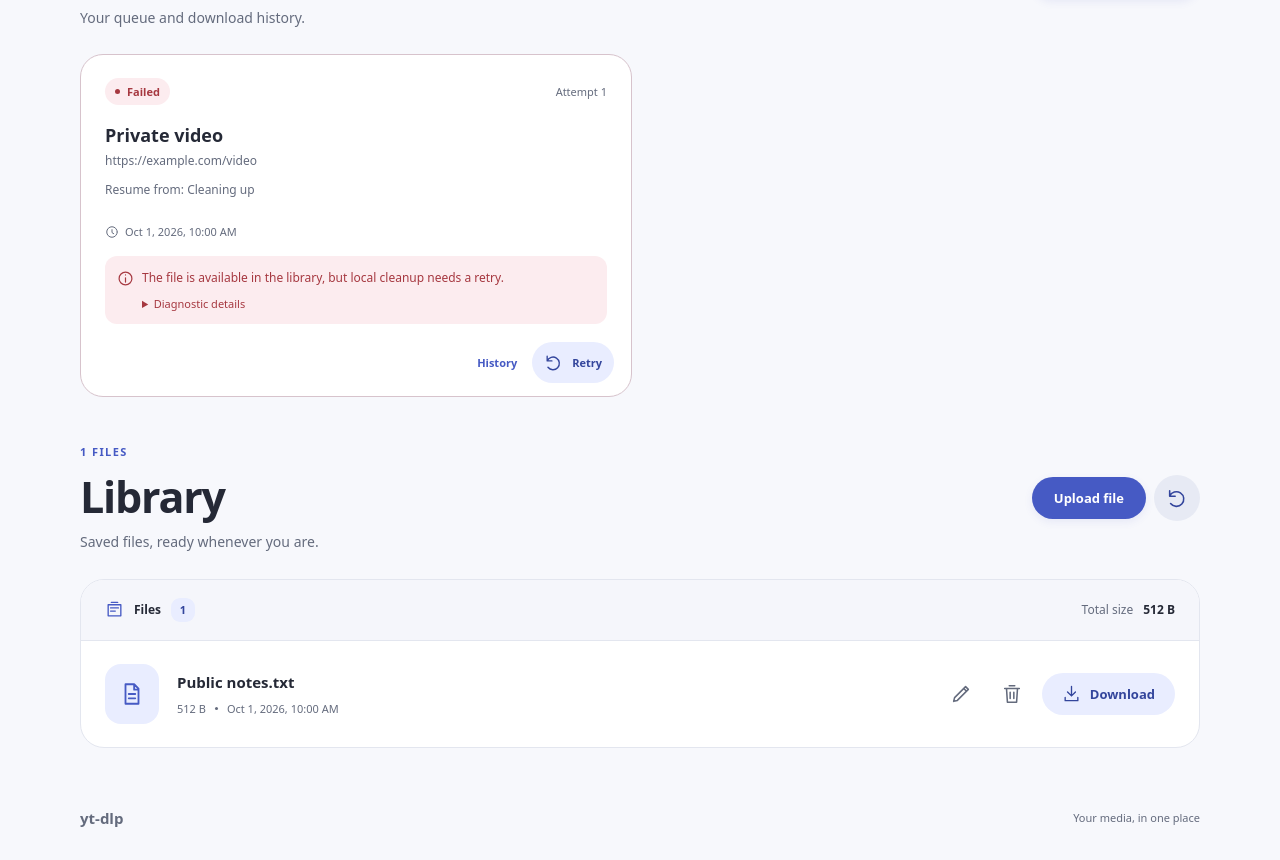
Test: library and SSO workspace › lets an administrator save and remove a title while keeping the original download link
The image size is (1280, 860).
(page scrolled)
Click the button named "Edit file title: Public notes.txt" at (961, 694), box [940,673,982,715]
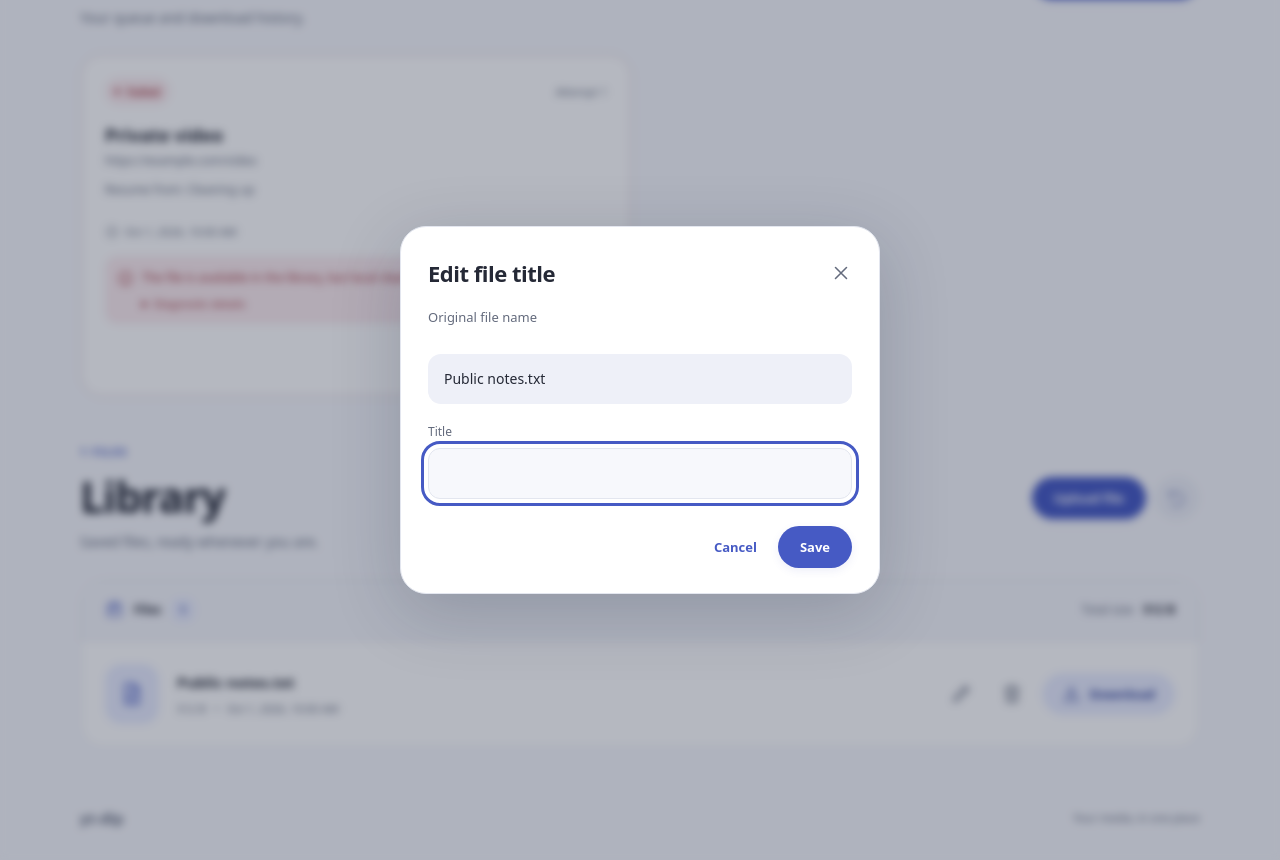
Expected: the text "Public notes.txt" is shown, [428,354,852,404]
Type "Public title" into the field labelled "Title" at (640, 473), box [428,448,852,499]
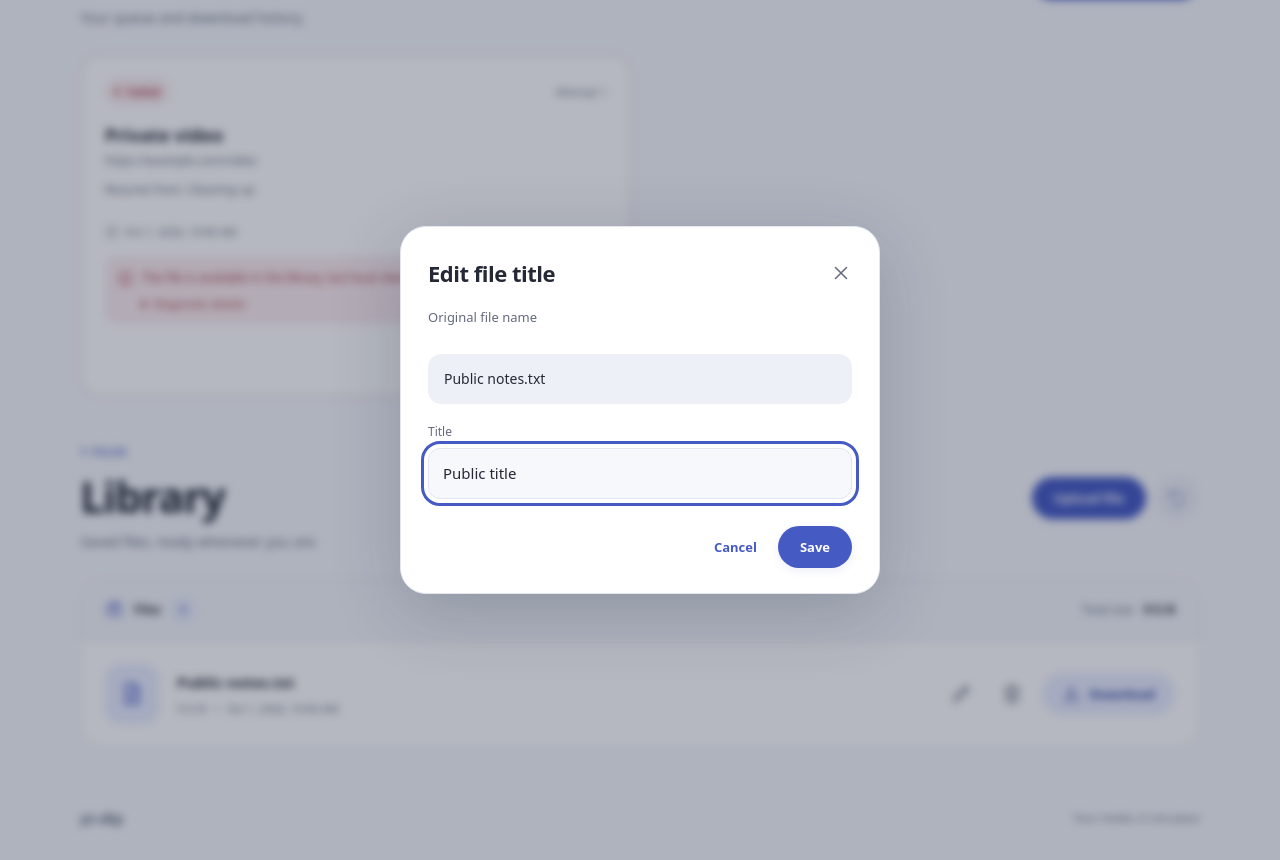
Click the button "Save" at (815, 547), box [778,526,852,568]
(page scrolled)
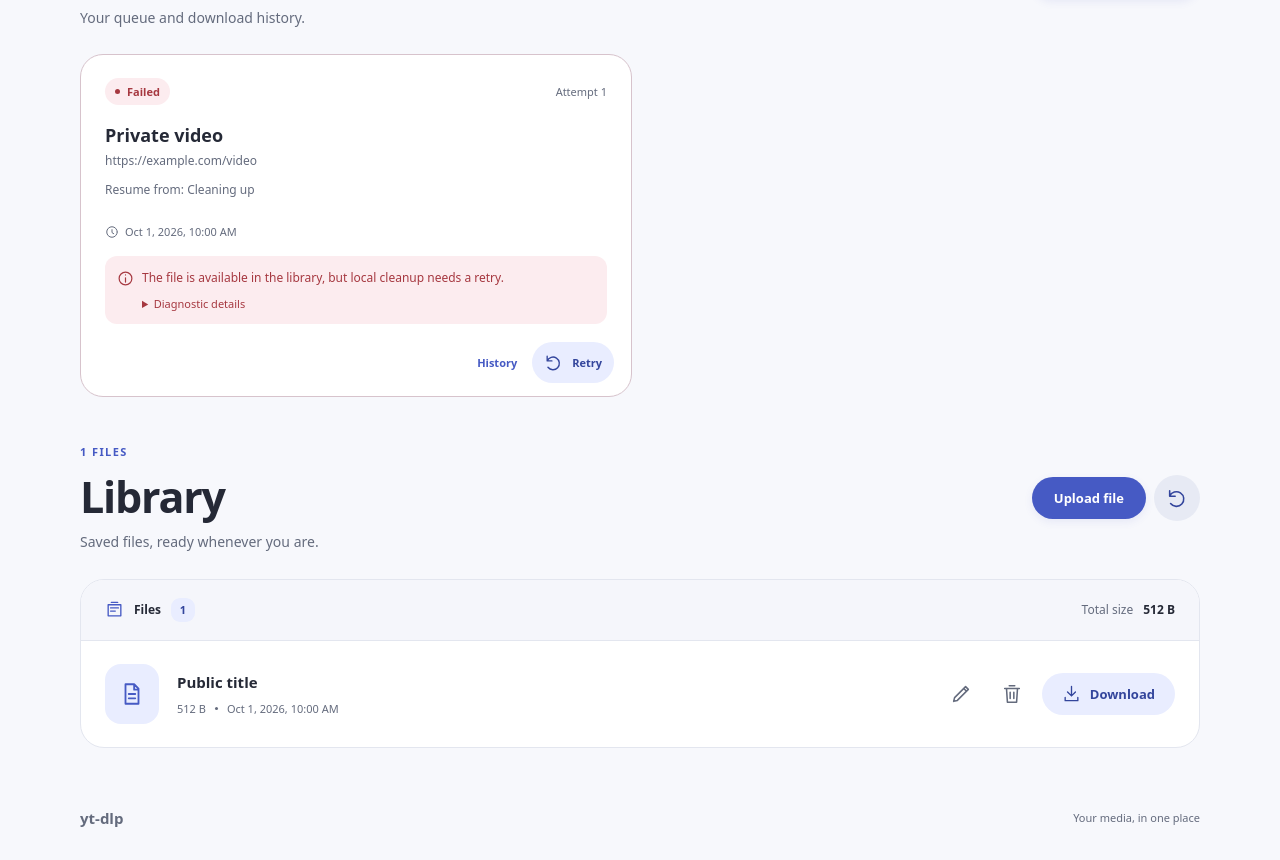
Expected: the heading "Public title" is shown, [177,672,258,692]
Click the button named "Edit file title: Public title" at (961, 694), box [940,673,982,715]
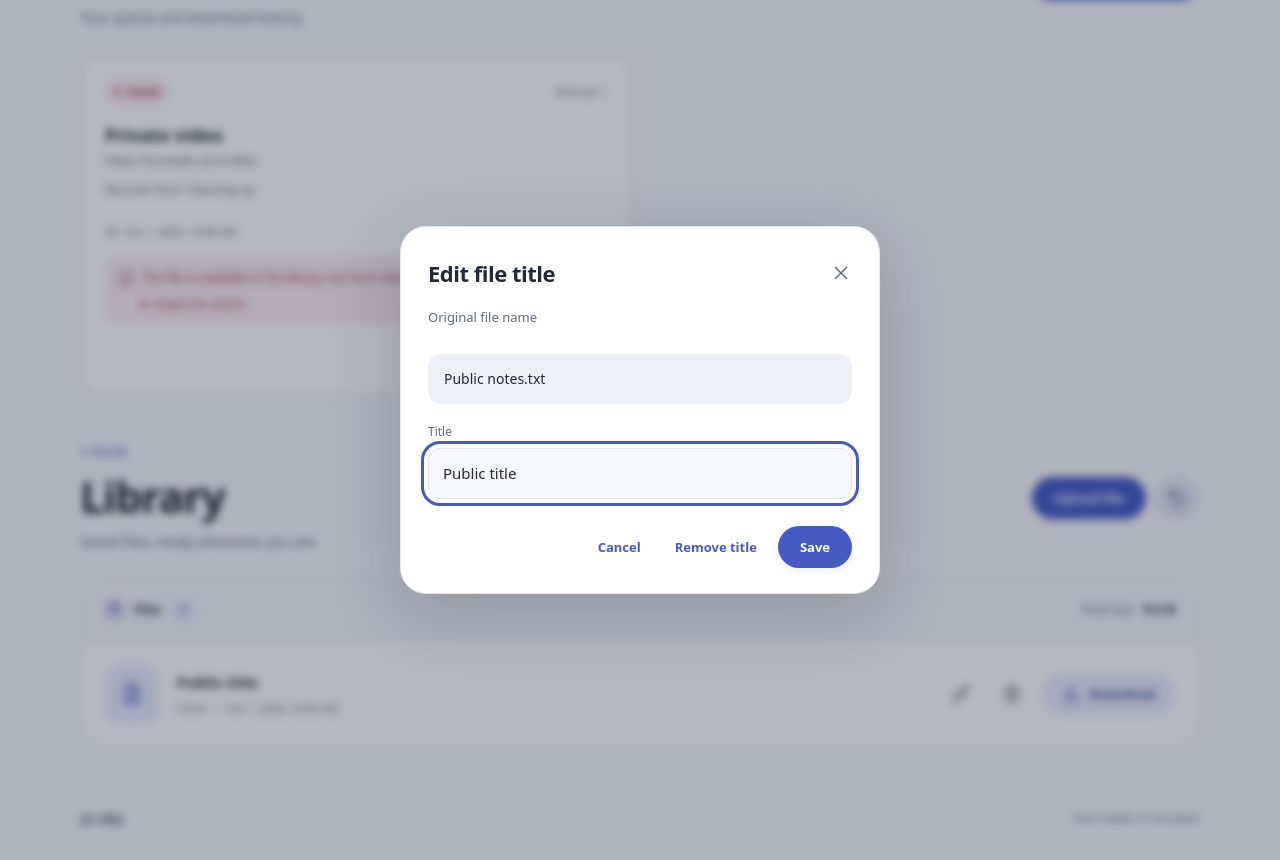
Expected: the field labelled "Title" holds "Public title", [428,448,852,499]
Click the button "Remove title" at (716, 547), box [662,526,770,568]
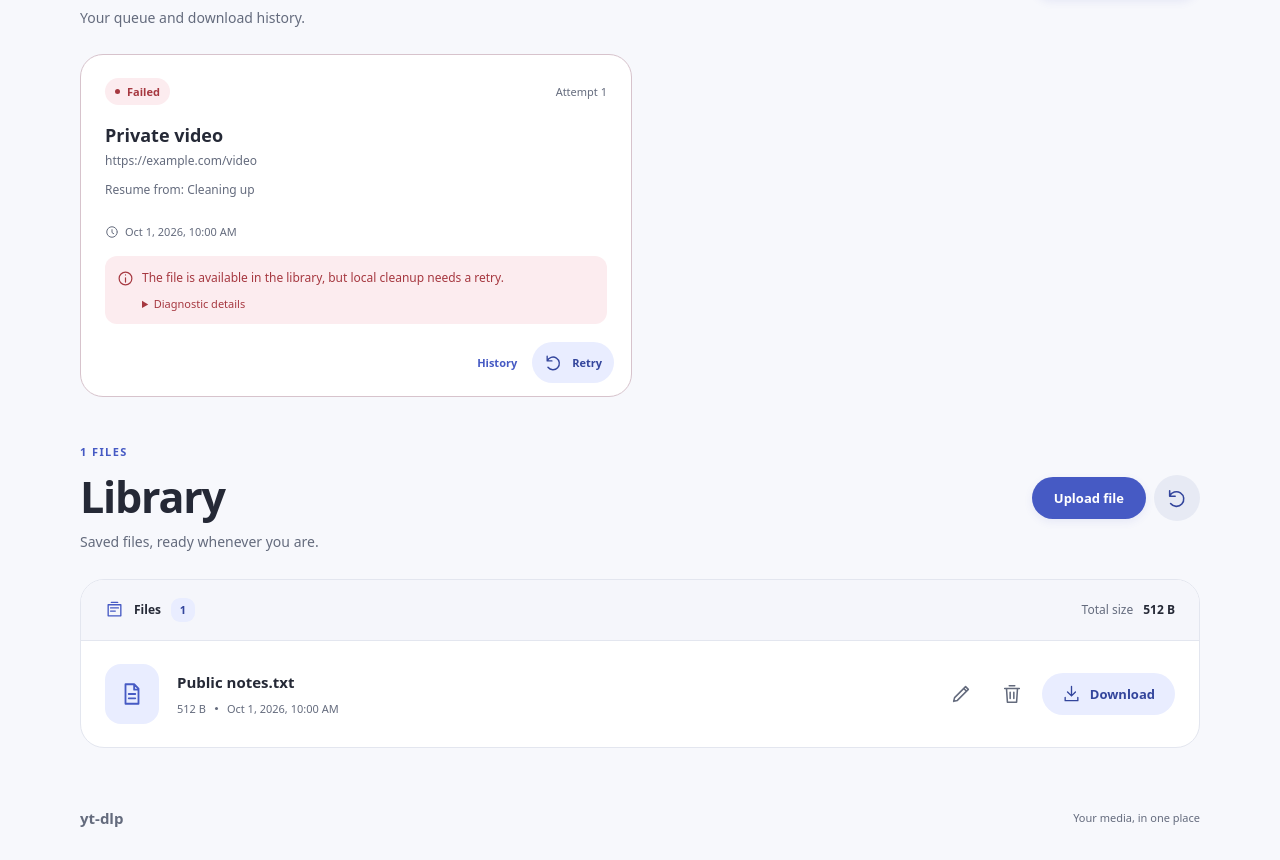
Expected: the heading "Public notes.txt" is shown, [177,672,294,692]
